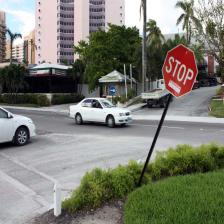Stop-sign: (161, 36, 200, 105)
